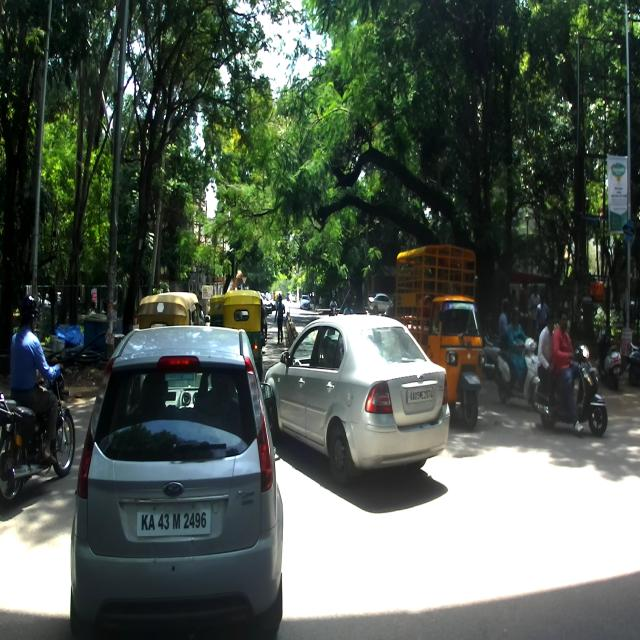car ahead at: (77, 322, 287, 640), (271, 313, 452, 482)
motorcycle ahead at: (0, 372, 77, 508)
